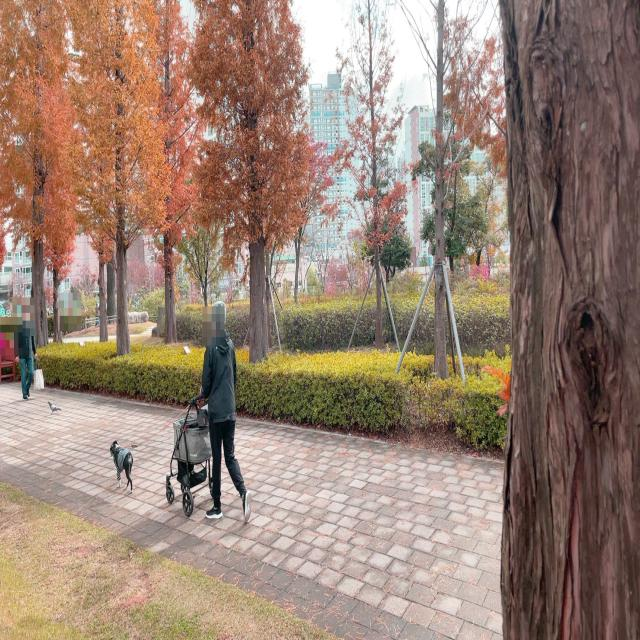Leashed_Dog: (109, 388, 220, 493)
